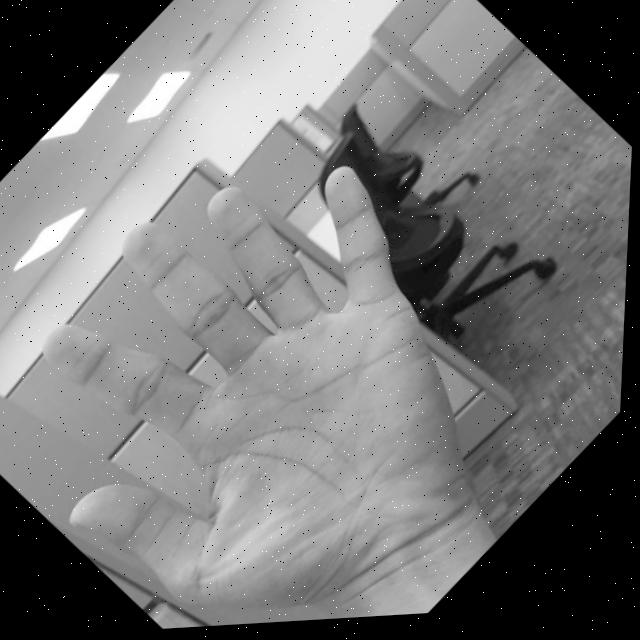hand: (0, 74, 590, 640)
